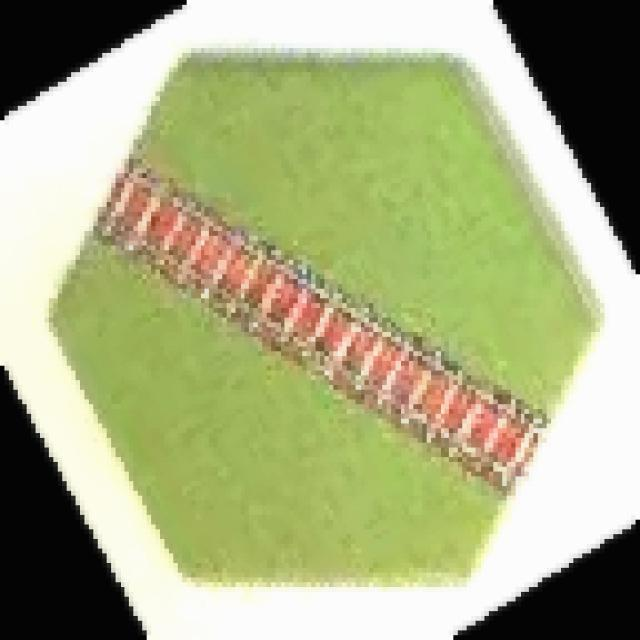3_2: (53, 41, 598, 586)
